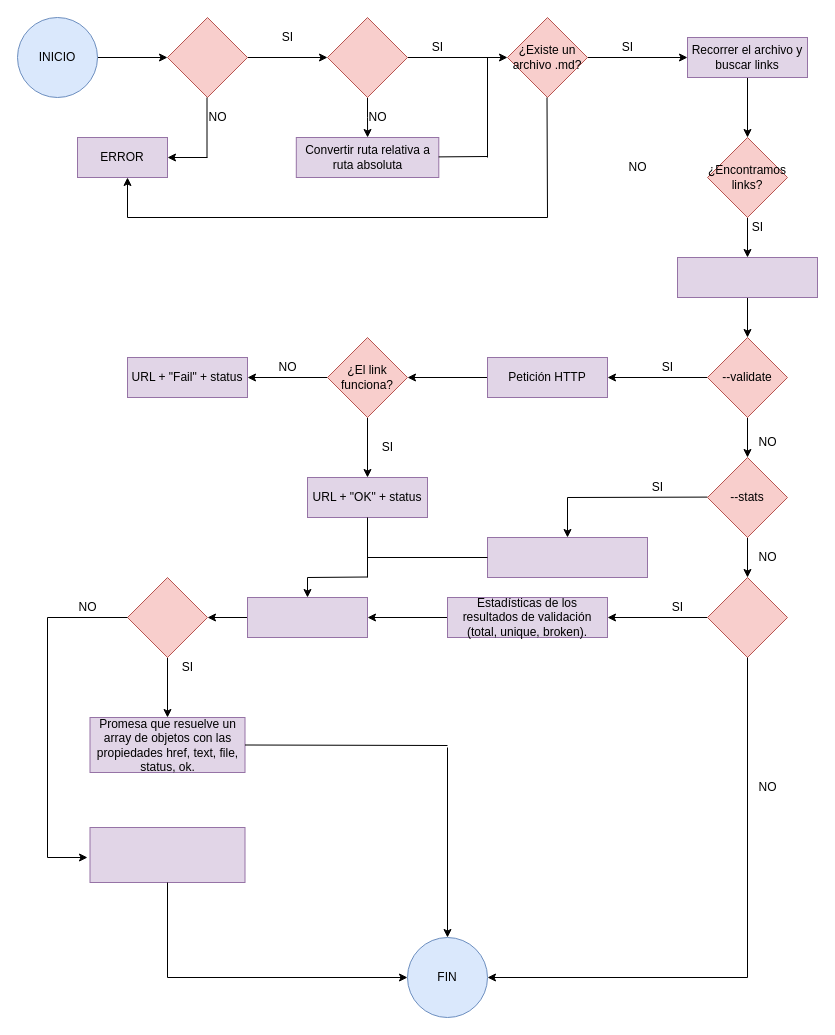
This 835x1035 diagram has some shape labels left out. Here are the shapes that lost their labels. From the top down, the centre of each, then its label:
At (207,57): "¿La ruta es válida?".
At (367,57): "¿Es una ruta absoluta?".
At (747,277): "Devolver array con links encontrados, ruta de archivo y texto del link".
At (567,557): "Output texto con estadísticas básicas de los links (total, unique).".
At (167,617): "¿Validate: true?".
At (307,617): "Option con objeto validate".
At (747,617): "--stats --validate".
At (167,854): "Promesa que resuelve un array de objetos con las propiedades href, text, file.".
